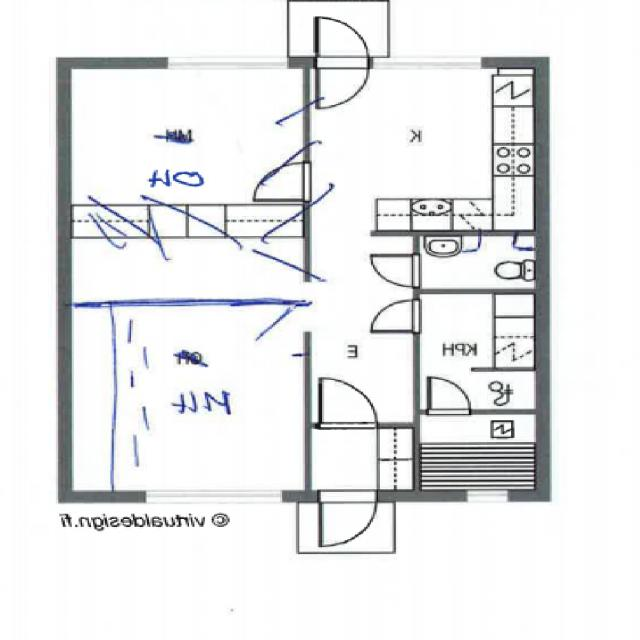door: (322, 490, 377, 544), (317, 16, 369, 68), (317, 56, 369, 108), (321, 380, 376, 428), (256, 317, 310, 355), (370, 300, 420, 334), (370, 254, 420, 287), (431, 379, 470, 414)
